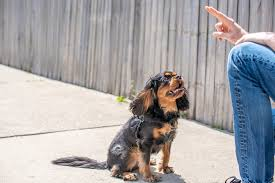dog_sitting: (102, 70, 190, 183)
